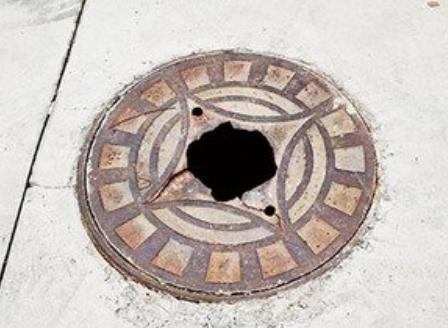wellcover: (82, 40, 385, 309)
